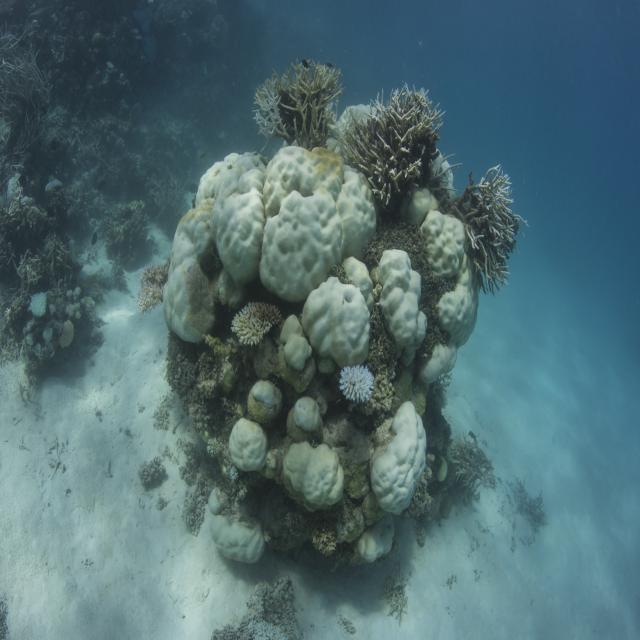Bleached Coral: (194, 150, 379, 281), (426, 207, 483, 353), (371, 407, 441, 512), (307, 285, 380, 367), (160, 226, 203, 345), (385, 243, 430, 353), (289, 445, 347, 512), (208, 510, 261, 573), (335, 356, 380, 413), (229, 419, 272, 468), (424, 345, 462, 400), (229, 310, 262, 340), (252, 382, 280, 407), (66, 288, 83, 319), (31, 293, 47, 317)
